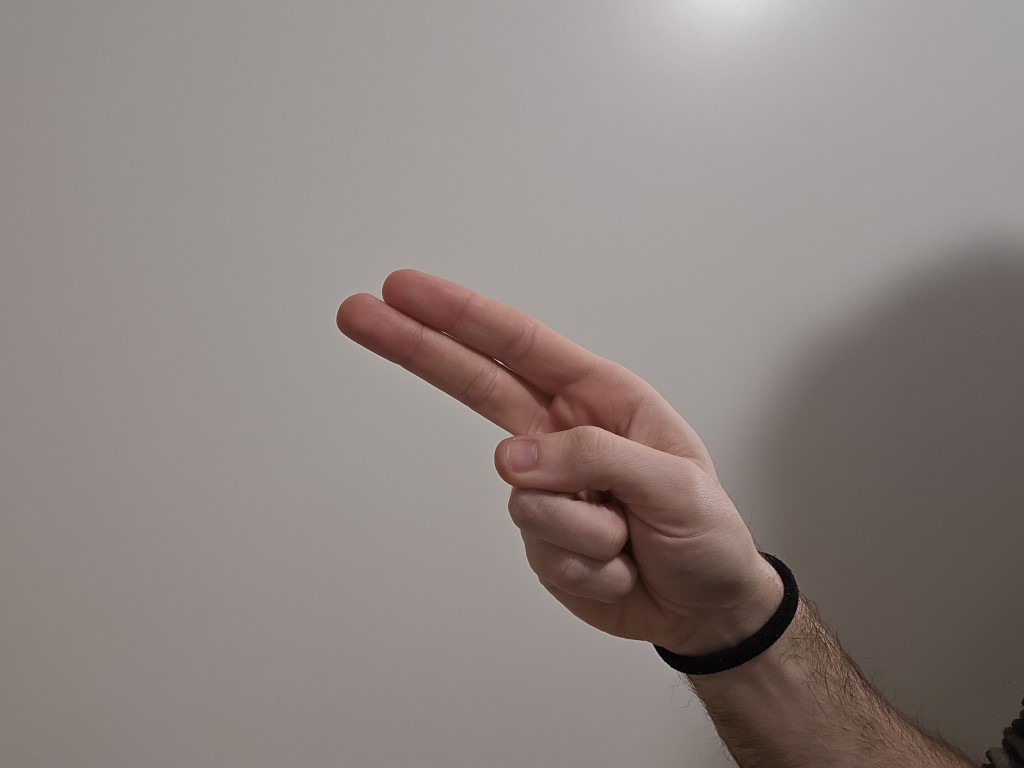h: (301, 237, 746, 627)
